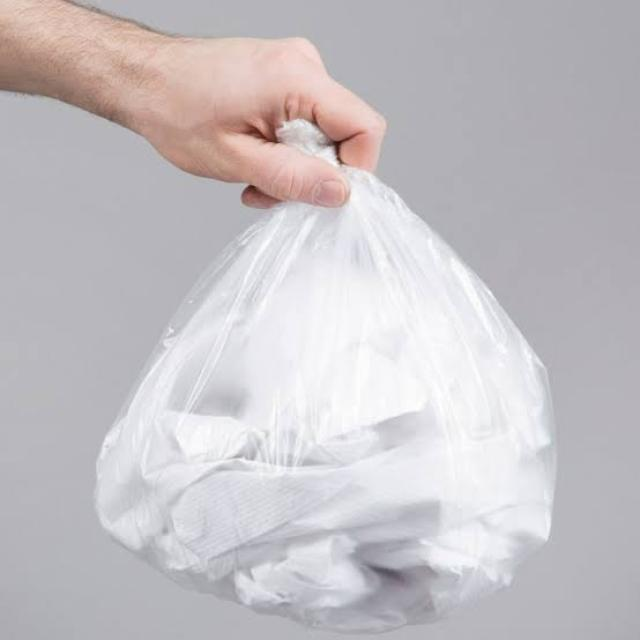plastic bag: (68, 169, 551, 623)
